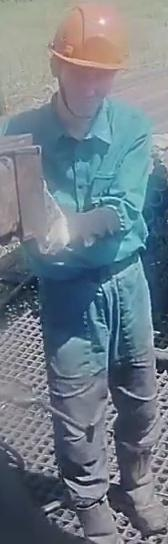gloves: (40, 176, 85, 259)
helmet: (47, 2, 131, 72)
vest: (0, 100, 157, 292)
